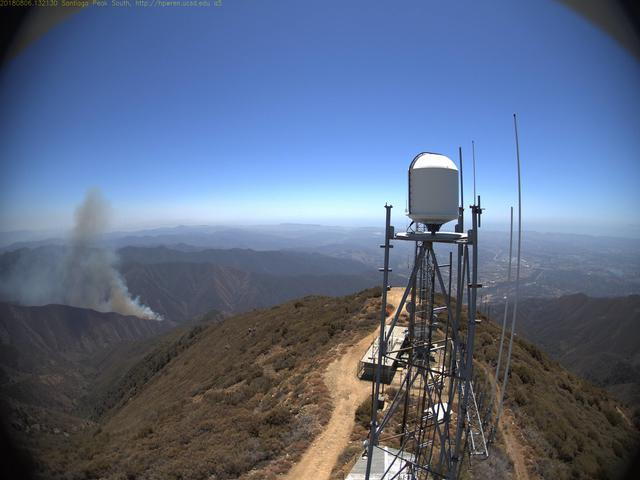smoke: (5, 187, 164, 326)
